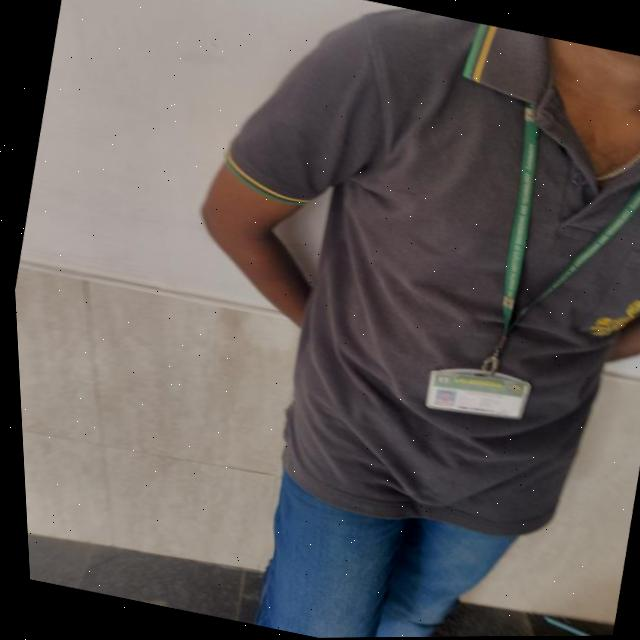id_card: (420, 105, 640, 420)
